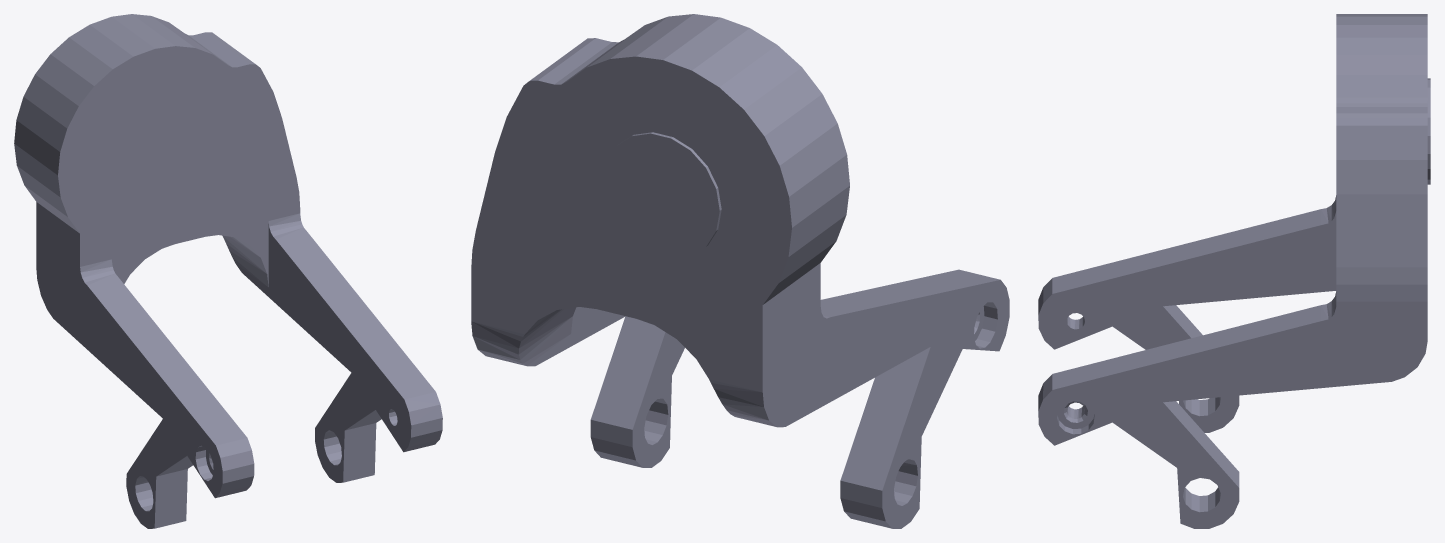
File: hand1_link_1_1_visuals.obj
The picture shows the model from 3 angles, left to right: view 1: azimuth 30°, elevation 25°; view 2: azimuth 150°, elevation 25°; view 3: azimuth 270°, elevation 25°; orthographic projection. The views are drawn at different scales.
Size of the model in its own units: 0.0191 by 0.0311 by 0.0257.
